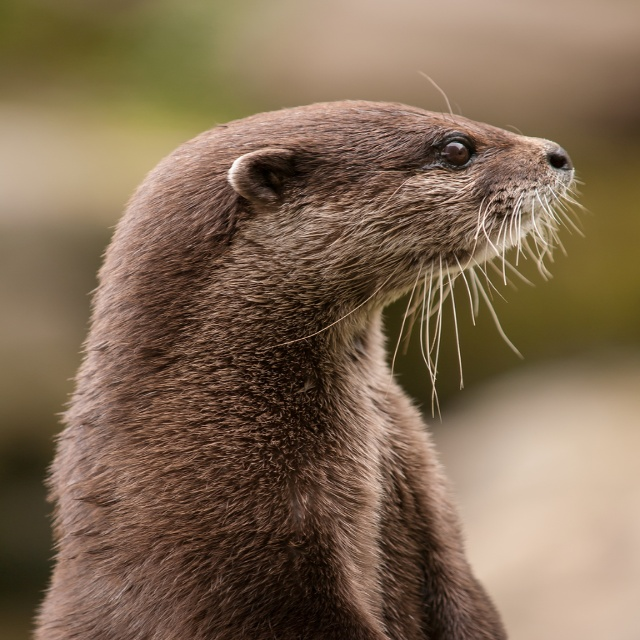Otter: (26, 68, 589, 634)
